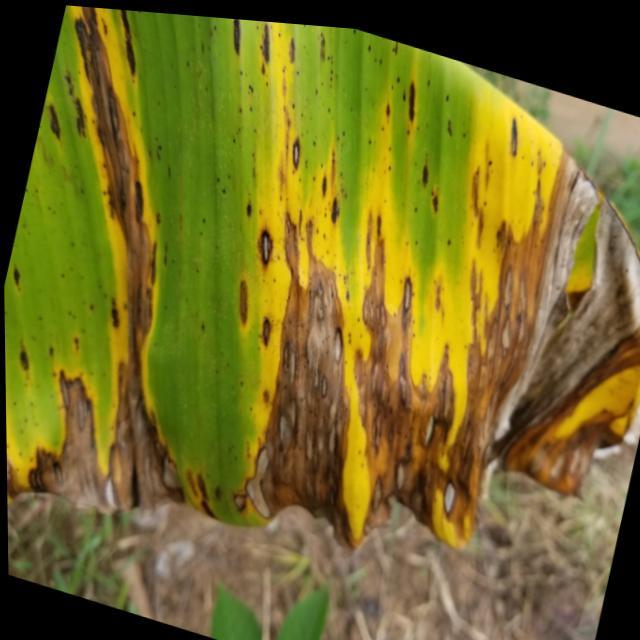Early_rust: (0, 10, 634, 560)
